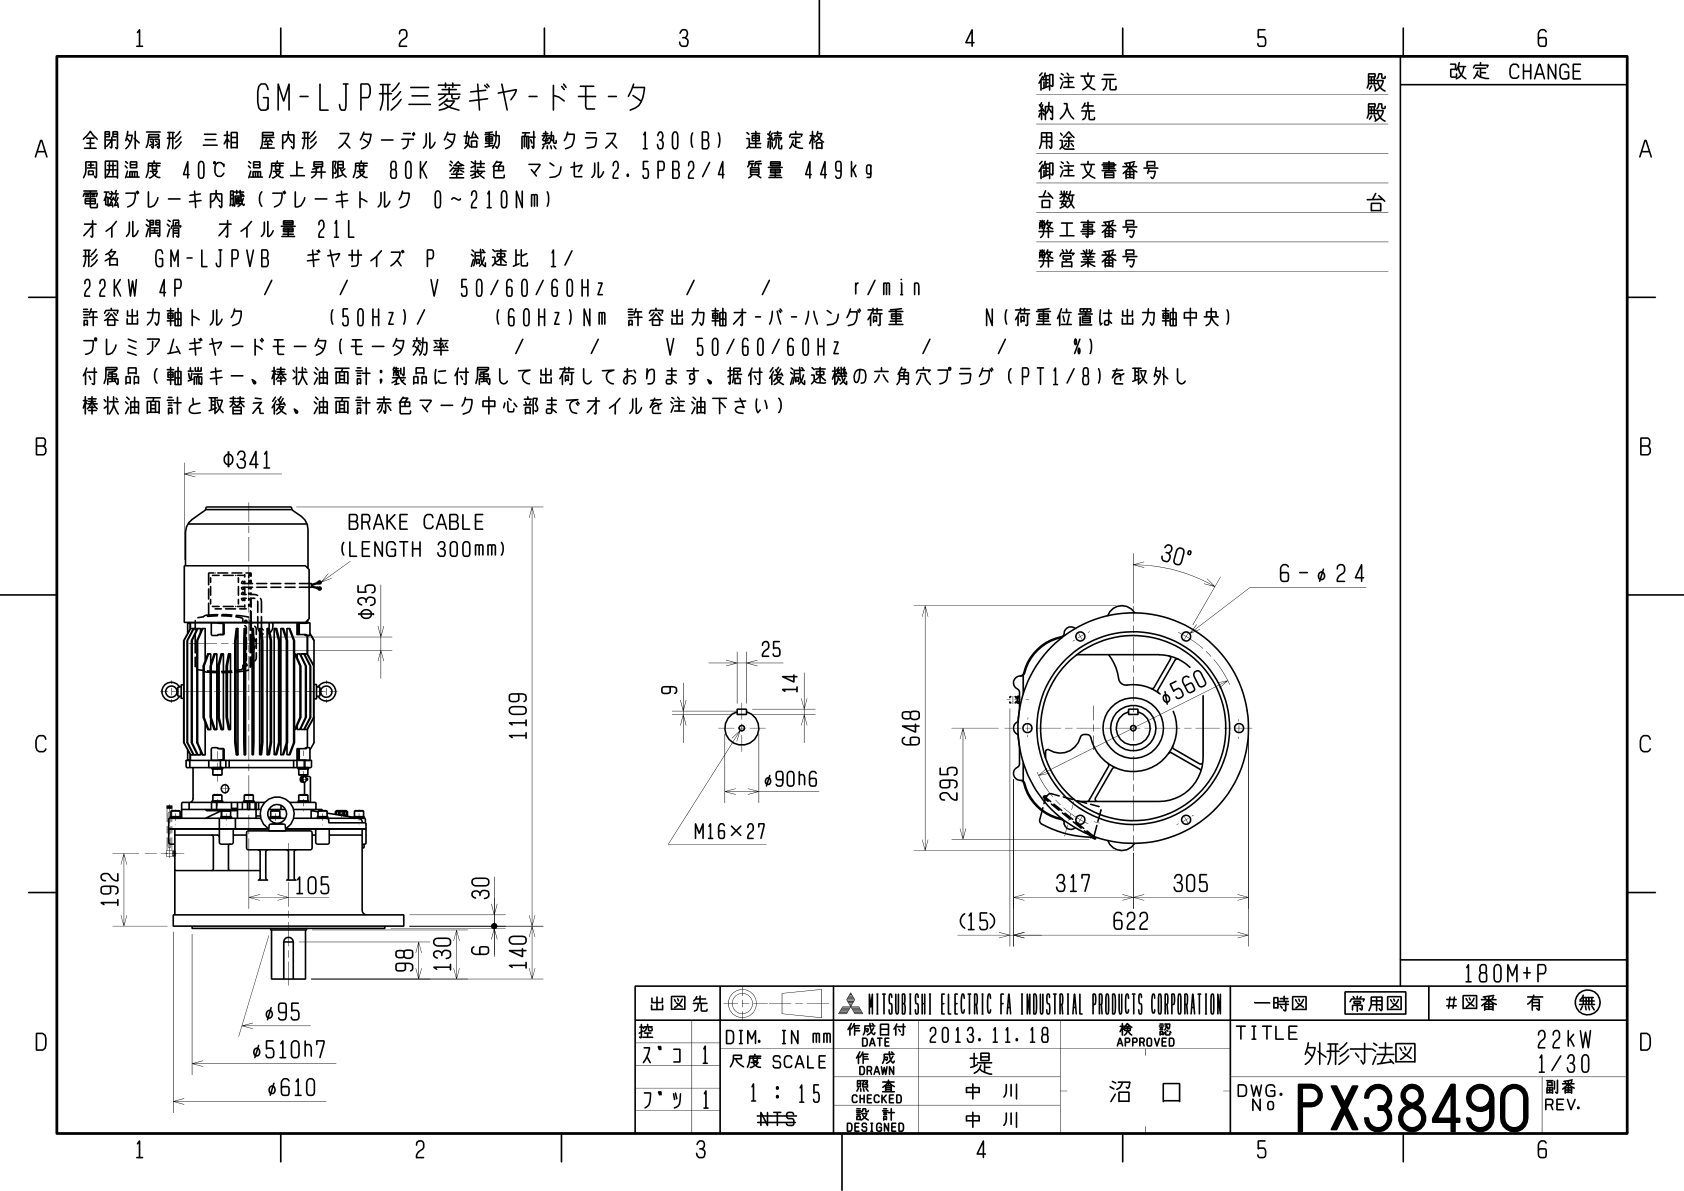GM_LJP_屋内_三相_立: (1, 1, 1671, 1176)
